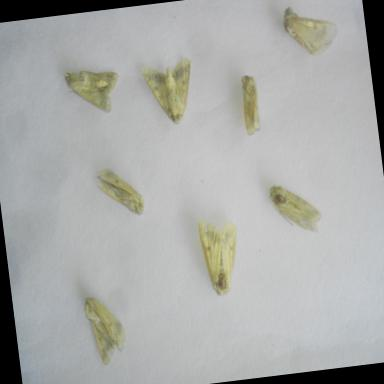abw: (138, 52, 201, 132), (193, 211, 248, 300), (80, 287, 132, 371), (277, 0, 345, 64), (262, 176, 327, 242), (59, 61, 126, 121), (92, 160, 148, 222), (231, 66, 270, 143)
